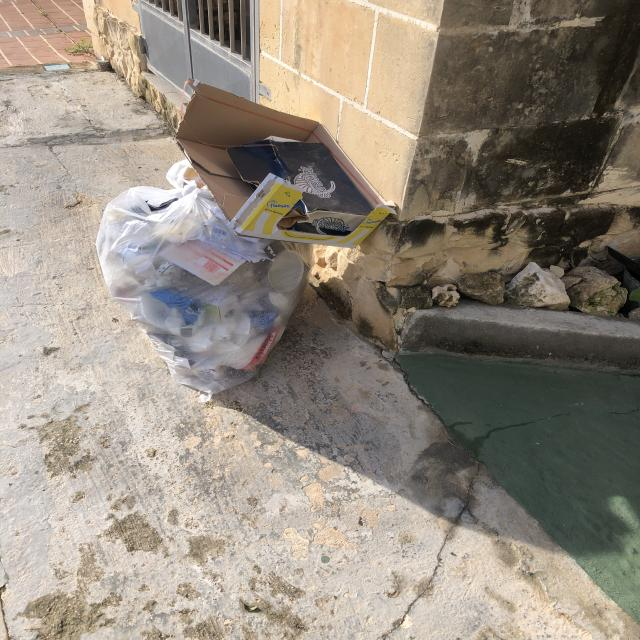Organic Waste -White Bag-: (112, 192, 304, 399)
Other: (185, 94, 388, 251)
